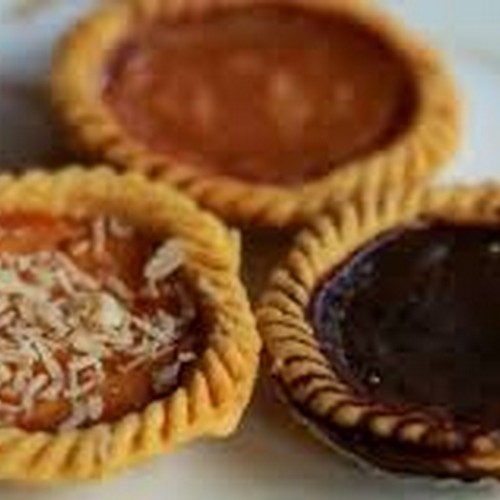pie susu: (61, 9, 445, 216), (10, 186, 239, 471), (260, 190, 500, 455)
